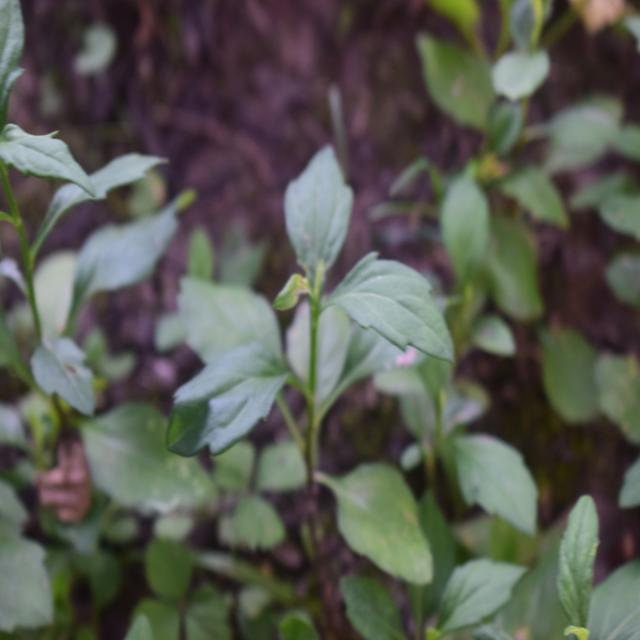Indian aster: (208, 156, 445, 565)
